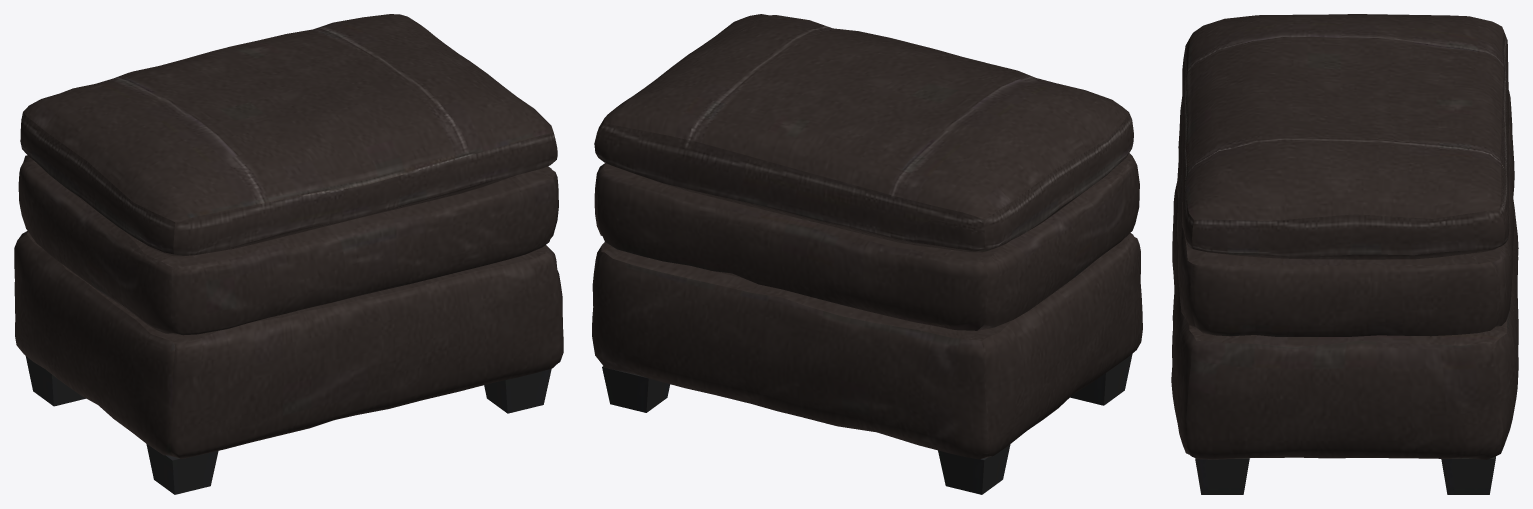
File: Ottoman_01.glb
The picture shows the model from 3 angles, left to right: view 1: azimuth 30°, elevation 25°; view 2: azimuth 150°, elevation 25°; view 3: azimuth 270°, elevation 25°; orthographic projection.
Parts seen in each view (by area): view 1: Ottoman_01; view 2: Ottoman_01; view 3: Ottoman_01.
Part boxes in pixels (x1,y1,x2,y2): Ottoman_01: (14,14,563,494); Ottoman_01: (592,14,1142,494); Ottoman_01: (1171,14,1518,494).
Size of the model in its own units: 0.8846 by 0.6243 by 0.6212.
Materials: 1 (1 with a texture image).
